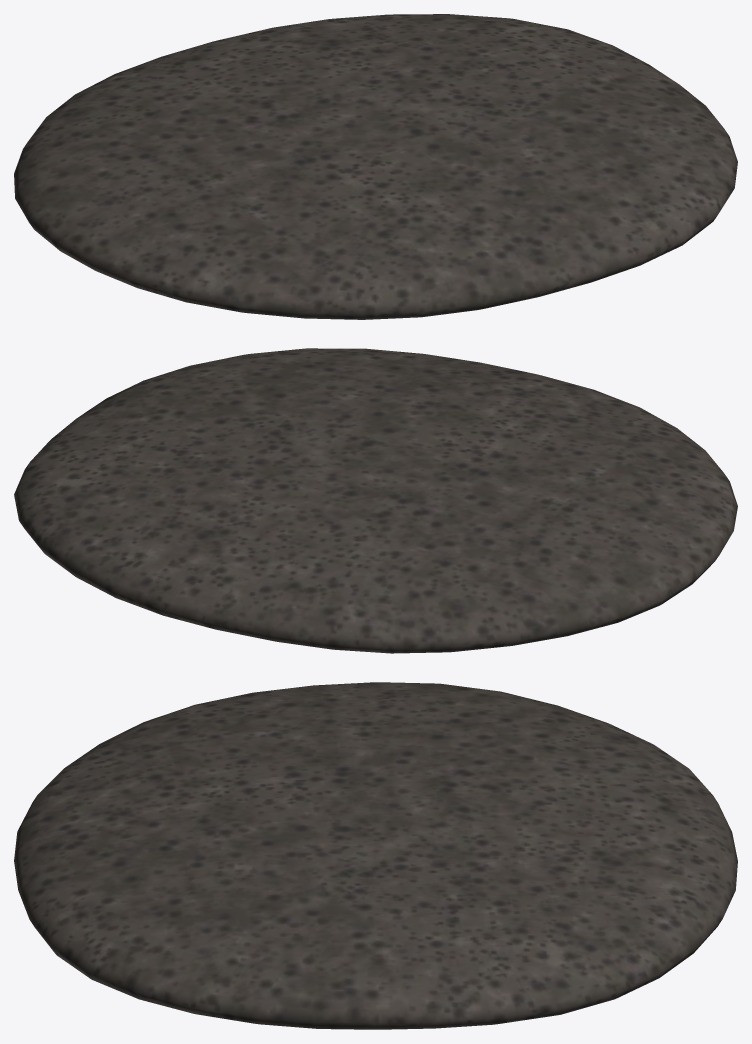
File: heavy_basalt_02.glb
3 renders of one model, top to bottom at view 1: azimuth 30°, elevation 25°; view 2: azimuth 150°, elevation 25°; view 3: azimuth 270°, elevation 25°, orthographic. The views are drawn at different scales.
Visible parts, largest first — view 1: heavy_basalt_02; view 2: heavy_basalt_02; view 3: heavy_basalt_02.
Boxes of the visible parts, x1,y1,x2,y2 form: heavy_basalt_02: (14, 14, 737, 319); heavy_basalt_02: (14, 348, 737, 653); heavy_basalt_02: (14, 682, 737, 1029).
Size of the model in its own units: 0.0899 by 0.0112 by 0.0822.
Materials: 1 (1 with a texture image).
